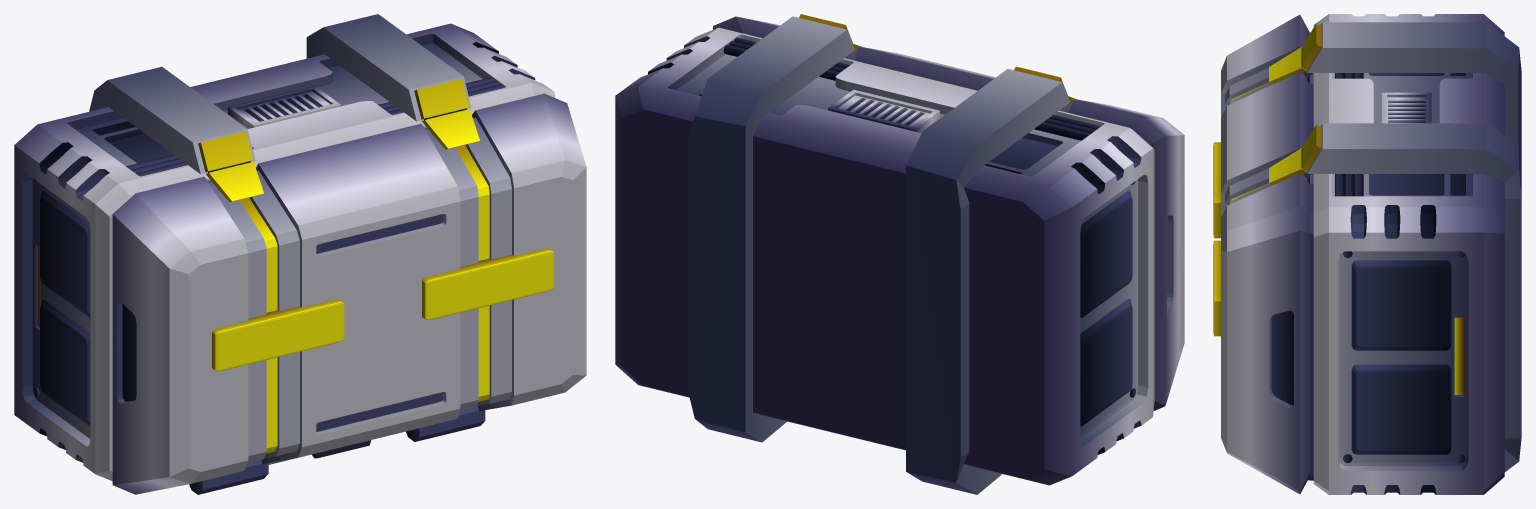
Rendered from Crate_Big 1.fbx.
3 views of the same model, side by side, from view 1: azimuth 30°, elevation 25°; view 2: azimuth 150°, elevation 25°; view 3: azimuth 270°, elevation 25° (orthographic). The views are drawn at different scales.
Visible parts, largest first — view 1: Crate_retangle; view 2: Crate_retangle; view 3: Crate_retangle.
Part boxes in pixels (x1,y1,x2,y2): Crate_retangle: (14, 14, 586, 494); Crate_retangle: (615, 14, 1184, 494); Crate_retangle: (1213, 14, 1521, 494).
Bounding box in the file's own units: 2264 × 1664 × 1372.
Materials: 1 (1 with a texture image).
